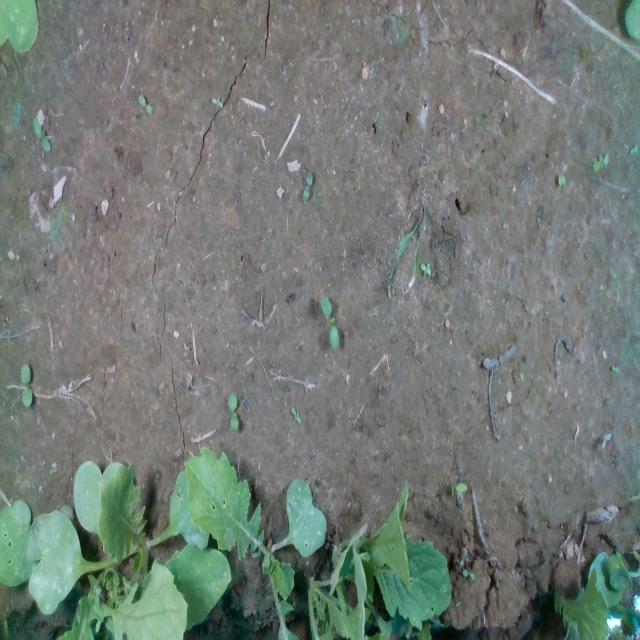weed: (302, 170, 312, 204)
